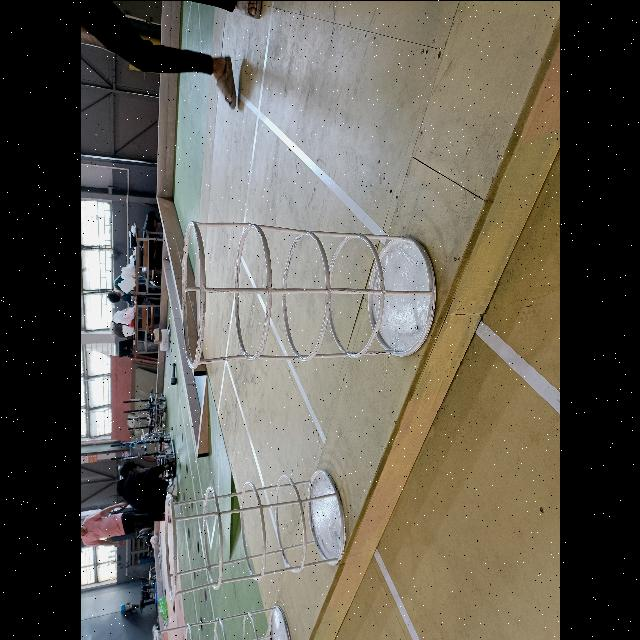S: (180, 221, 437, 370), (163, 468, 347, 601), (153, 604, 292, 640)
